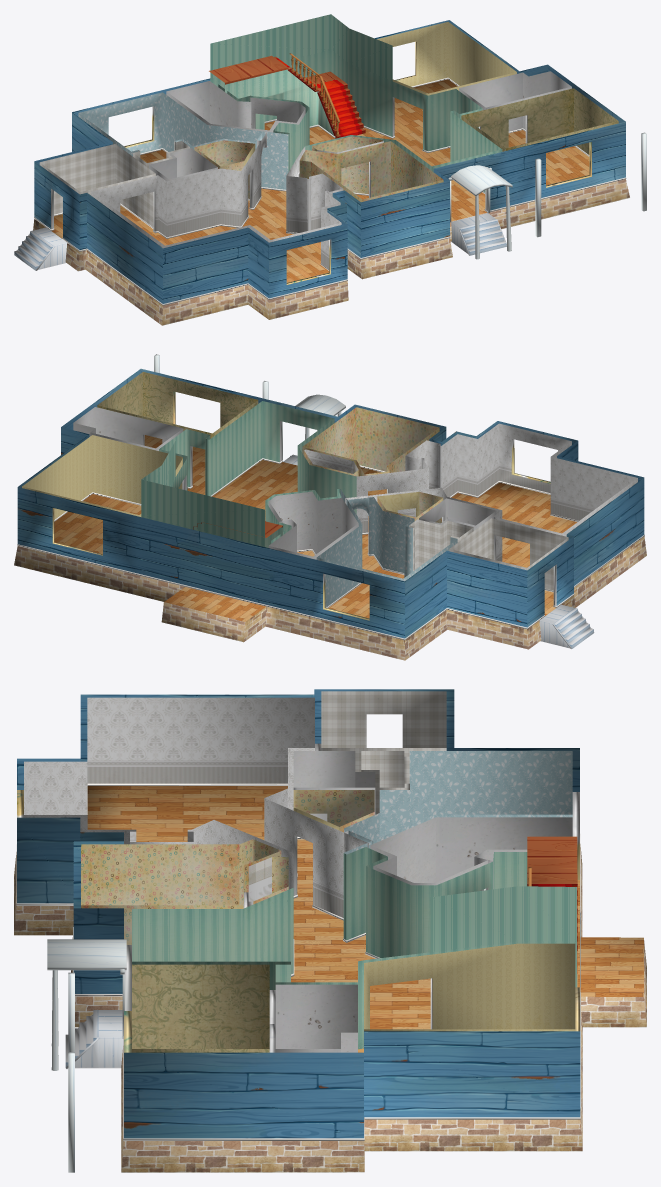
File: house.gltf
3 renders of one model, top to bottom at view 1: azimuth 30°, elevation 25°; view 2: azimuth 150°, elevation 25°; view 3: azimuth 270°, elevation 25°, orthographic. The views are drawn at different scales.
Parts seen in each view (by area): view 1: HouseMesh_map_floor_1_mo, Rails; view 2: HouseMesh_map_floor_1_mo; view 3: HouseMesh_map_floor_1_mo.
Boxes of the visible parts, bbox=[...] form: HouseMesh_map_floor_1_mo: bbox=[14, 14, 646, 325]; Rails: bbox=[289, 53, 339, 135]; HouseMesh_map_floor_1_mo: bbox=[14, 354, 646, 660]; HouseMesh_map_floor_1_mo: bbox=[14, 689, 646, 1172].
Size of the model in its own units: 28.48 by 6 by 19.54.
Materials: 6 (6 with a texture image).
